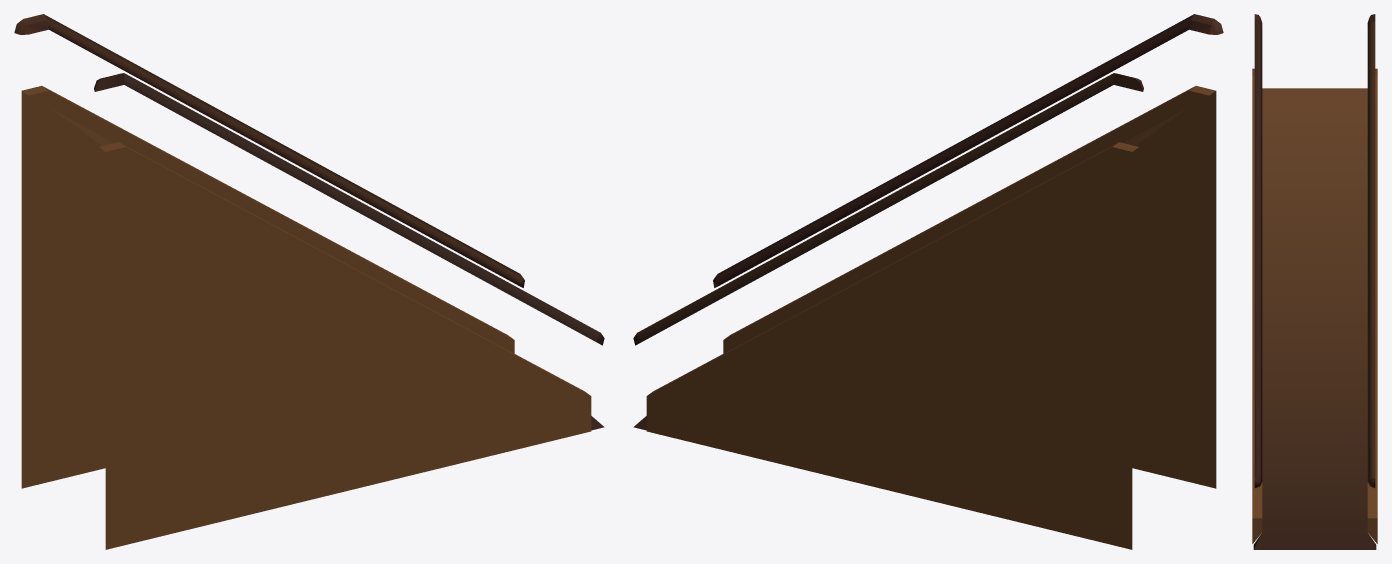
The model's file is HomeA_StairsA_COL.fbx.
The picture shows the model from 3 angles, left to right: view 1: azimuth 30°, elevation 25°; view 2: azimuth 150°, elevation 25°; view 3: azimuth 270°, elevation 25°; orthographic projection. The views are drawn at different scales.
Parts seen in each view (by area): view 1: HomeA_StairsA_COL; view 2: HomeA_StairsA_COL; view 3: HomeA_StairsA_COL.
Part boxes in pixels (x1,y1,x2,y2): HomeA_StairsA_COL: (14,14,604,549); HomeA_StairsA_COL: (633,14,1223,549); HomeA_StairsA_COL: (1252,14,1377,549).
Size of the model in its own units: 629 by 556 by 179.
